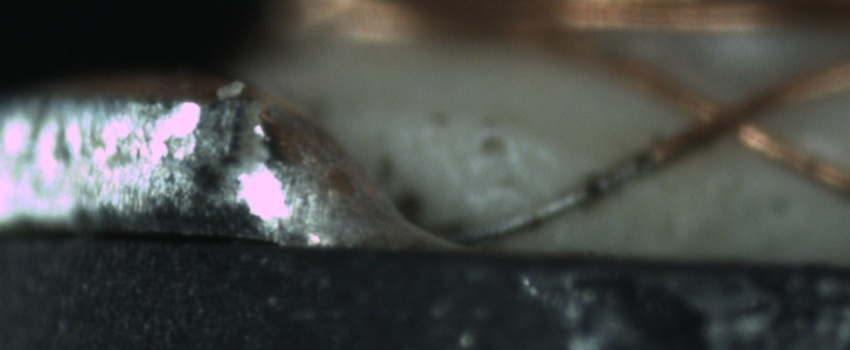CL: (684, 78, 780, 151)
TS: (441, 152, 658, 242)
